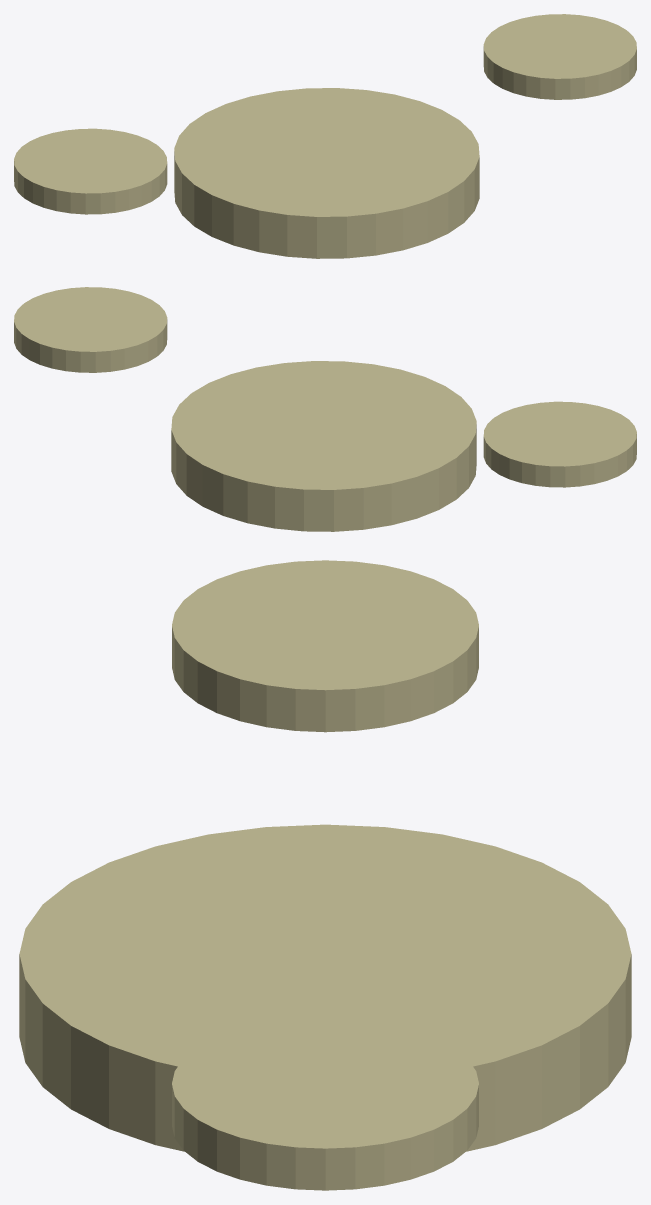
The model's file is textura.fbx.
3 views of the same model, one above another, from view 1: azimuth 30°, elevation 25°; view 2: azimuth 150°, elevation 25°; view 3: azimuth 270°, elevation 25° (orthographic). The views are drawn at different scales.
Parts seen in each view (by area): view 1: Cylinder.005; view 2: Cylinder.005; view 3: Cylinder.005.
Part boxes in pixels (<box>): Cylinder.005: <box>14,14,636,258</box>; Cylinder.005: <box>14,287,636,531</box>; Cylinder.005: <box>19,560,631,1190</box>.
Size of the model in its own units: 1444 by 208 by 635.
